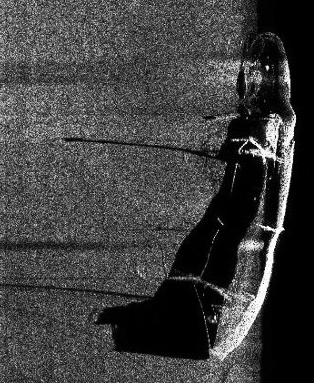ship: (194, 29, 301, 363)
